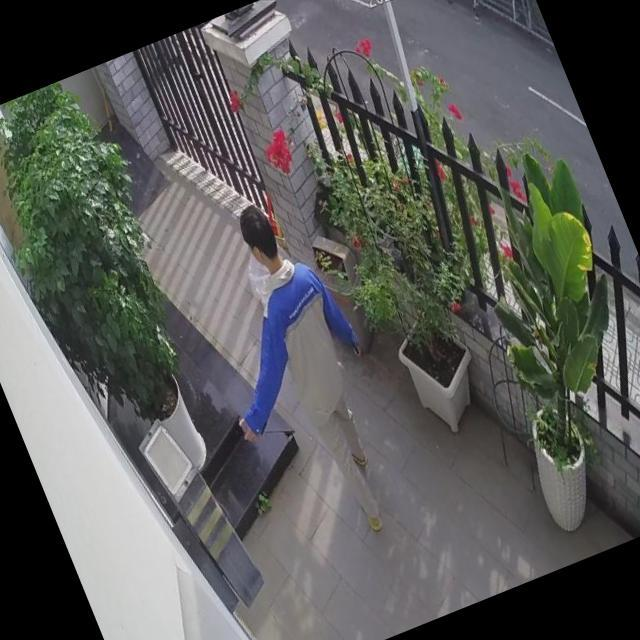person: (168, 188, 427, 560)
